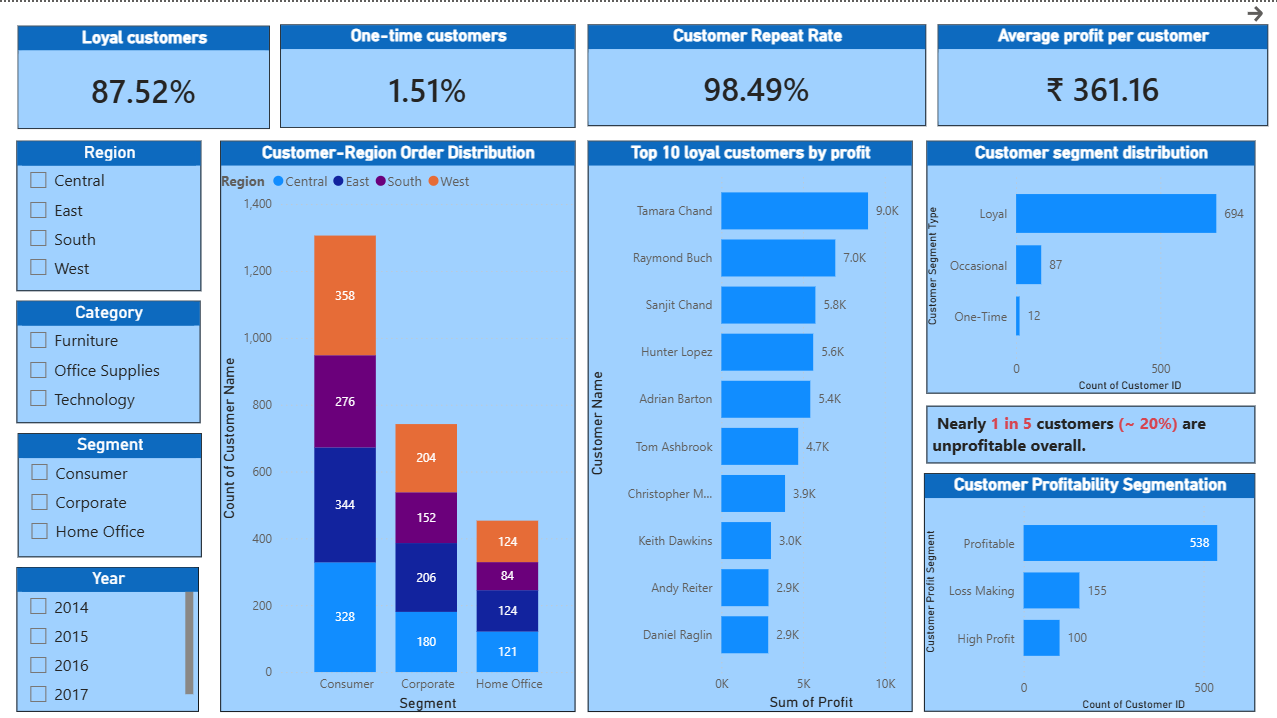

The dashboard page shown, as its layout file describes it:
{"tool":"powerbi","page":{"name":"Page 4","canvas":[1280,720],"ordinal":3},"visuals":[{"type":"cardVisual","title":"Loyal customers","fields":{"Data":["Superstore_cleaned_2.loyal_customer_percentage"]},"box":[18.9,23.3,252.2,103.3],"z":0},{"type":"slicer","title":"Region","fields":{"Values":["Superstore_cleaned_2.Region"]},"box":[17.5,138.8,185,150],"z":1000},{"type":"slicer","title":"Segment","fields":{"Values":["Superstore_cleaned_2.Segment"]},"box":[18.8,431.2,183.8,123.8],"z":2000},{"type":"slicer","title":"Category","fields":{"Values":["Superstore_cleaned_2.Category"]},"box":[17.5,298.8,183.8,122.5],"z":3000},{"type":"slicer","title":"Year","fields":{"Values":["Superstore_cleaned_2.Year"]},"box":[17.5,565,182.5,145],"z":4000},{"type":"textbox","box":[825,505,102.5,60],"z":5000},{"type":"actionButton","box":[1243.8,0,25,23.8],"z":6000},{"type":"cardVisual","title":"Customer Repeat Rate","fields":{"Data":["Superstore_cleaned_2.Customer_repeat_rate"]},"box":[588.8,22.5,338.8,101.2],"z":7000},{"type":"columnChart","title":"Customer-Region Order Distribution","fields":{"Category":["Superstore_cleaned_2.Segment"],"Series":["Superstore_cleaned_2.Region"],"Y":["Count(Superstore_cleaned_2.Customer Name)"]},"box":[221.2,138.8,355,571.2],"z":8000},{"type":"cardVisual","title":"One-time customers","fields":{"Data":["Superstore_cleaned_2.one-time-buyer-percentage"]},"box":[281.1,22.2,295.6,103.3],"z":9000},{"type":"cardVisual","title":"Average profit per customer","fields":{"Data":["Superstore_cleaned_2.Average profit per customer"]},"box":[938.8,22.5,330,101.2],"z":10000},{"type":"barChart","title":"Customer segment distribution","fields":{"Category":["Superstore_cleaned_2.Customer Segment Type"],"Y":["Count(Superstore_cleaned_2.Customer ID)"]},"box":[927.5,138.8,328.8,252.5],"z":11000},{"type":"barChart","title":"Customer Profitability Segmentation ","fields":{"Category":["Superstore_cleaned_2.Customer Profit Segment"],"Y":["Count(Superstore_cleaned_2.Customer ID)"]},"box":[925,471.2,331.2,238.8],"z":12000},{"type":"barChart","title":"Top 10 loyal customers by profit","fields":{"Category":["Superstore_cleaned_2.Customer Name"],"Y":["Sum(Superstore_cleaned_2.Profit)"]},"box":[588.8,138.8,325,571.2],"z":13000},{"type":"textbox","box":[927.5,403.8,328.8,57.5],"z":14000}]}

Visuals, with their boxes in screenshot pixels (x1, y1, x2, y2), scaled from the page's 1280x720 canvas onto the 1277x718 screenshot:
"Loyal customers" cardVisual: l=19, t=23, r=270, b=126
"Region" slicer: l=17, t=138, r=202, b=288
"Segment" slicer: l=19, t=430, r=202, b=553
"Category" slicer: l=17, t=298, r=201, b=420
"Year" slicer: l=17, t=563, r=200, b=708
textbox: l=823, t=504, r=925, b=563
actionButton: l=1241, t=0, r=1266, b=24
"Customer Repeat Rate" cardVisual: l=587, t=22, r=925, b=123
"Customer-Region Order Distribution" columnChart: l=221, t=138, r=575, b=708
"One-time customers" cardVisual: l=280, t=22, r=575, b=125
"Average profit per customer" cardVisual: l=937, t=22, r=1266, b=123
"Customer segment distribution" barChart: l=925, t=138, r=1253, b=390
"Customer Profitability Segmentation " barChart: l=923, t=470, r=1253, b=708
"Top 10 loyal customers by profit" barChart: l=587, t=138, r=912, b=708
textbox: l=925, t=403, r=1253, b=460
